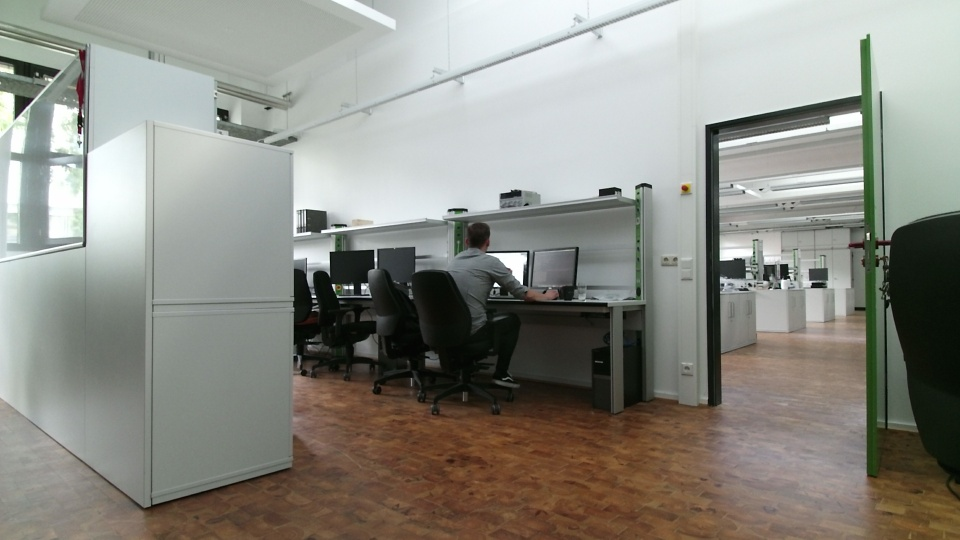Person: (441, 220, 564, 395)
